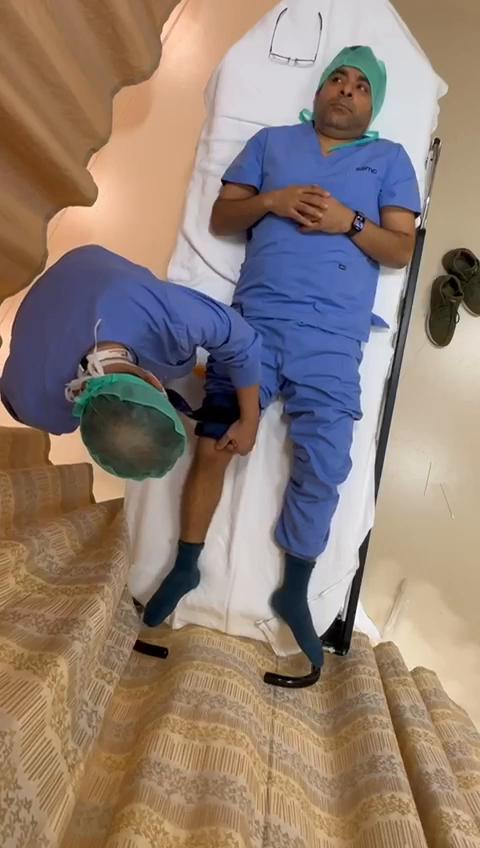patient: (144, 45, 421, 675)
tourniquet: (189, 393, 240, 438)
